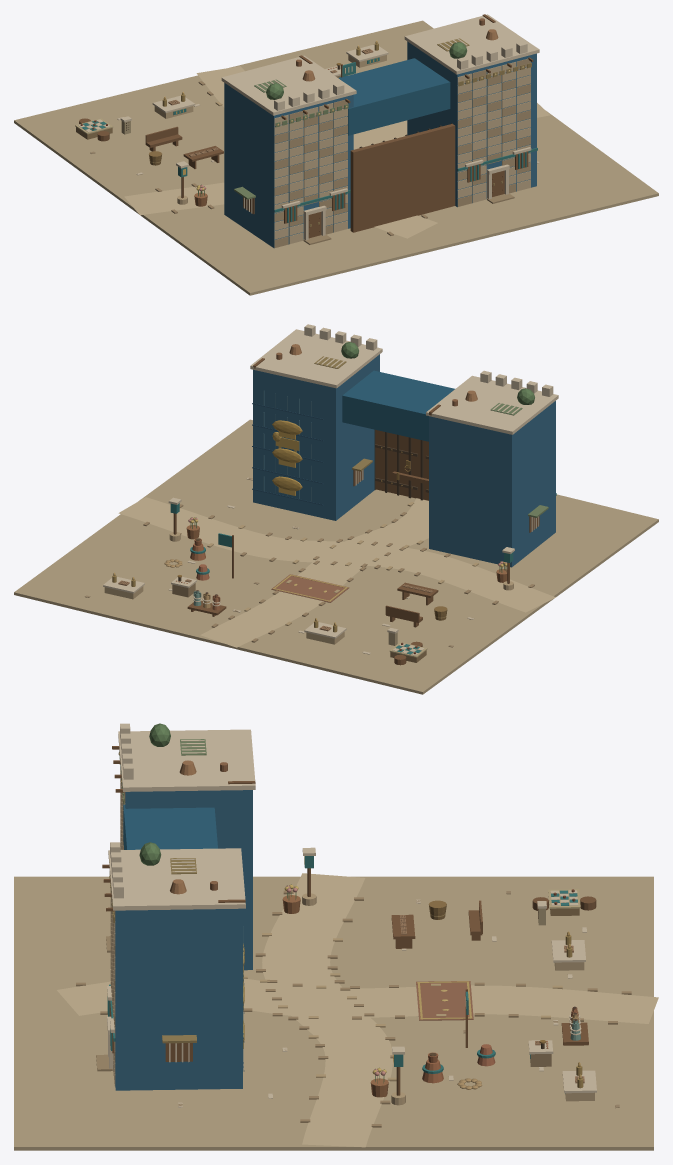
File: city-gate.glb
The picture shows the model from 3 angles, top to bottom: view 1: azimuth 30°, elevation 25°; view 2: azimuth 150°, elevation 25°; view 3: azimuth 270°, elevation 25°; orthographic projection. The views are drawn at different scales.
Visible parts, largest first — view 1: city-gate; view 2: city-gate; view 3: city-gate.
Part boxes in pixels (x1=…): city-gate: x1=14, y1=14, x2=658, y2=295; city-gate: x1=14, y1=324, x2=658, y2=694; city-gate: x1=14, y1=723, x2=658, y2=1150.
Bounding box in the file's own units: 32.45 × 11.47 × 32.26.
